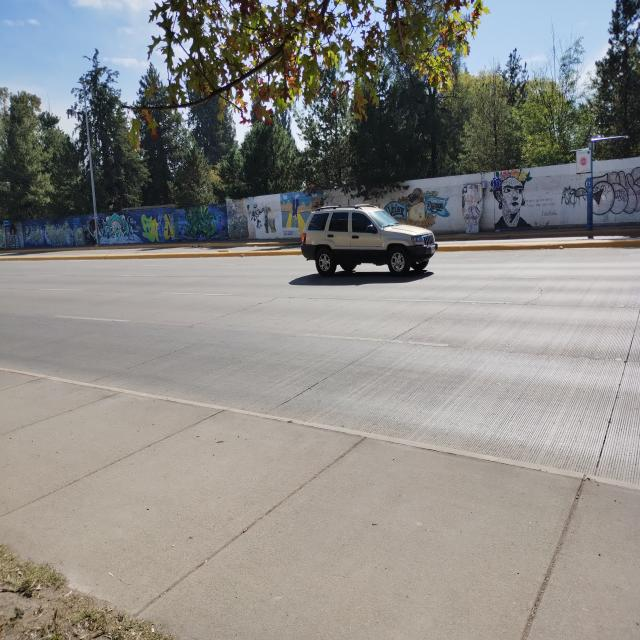Auto: (299, 203, 438, 274)
